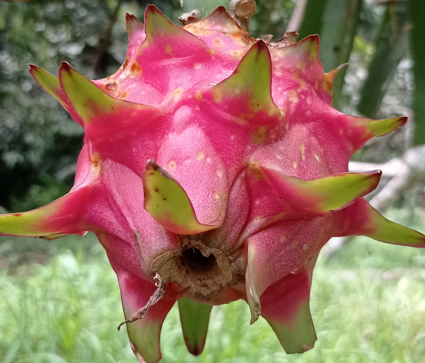Matang: (24, 1, 406, 340)
